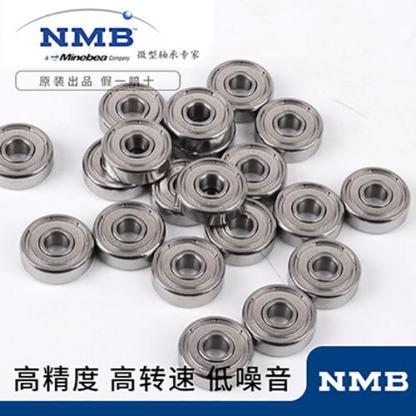FOD: (174, 314, 255, 392), (147, 232, 228, 310), (240, 281, 320, 358), (283, 238, 366, 312), (18, 210, 94, 286), (338, 163, 414, 237), (172, 155, 250, 226), (98, 118, 176, 184), (254, 92, 326, 162), (205, 58, 275, 128), (273, 178, 346, 244), (80, 135, 152, 201), (94, 76, 167, 136), (0, 119, 53, 194)
